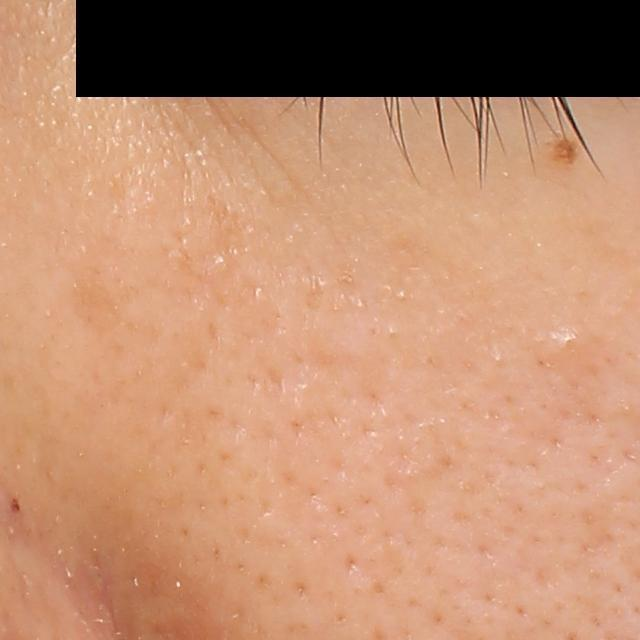comedo: (541, 321, 600, 364)
nevus: (547, 136, 585, 170)
